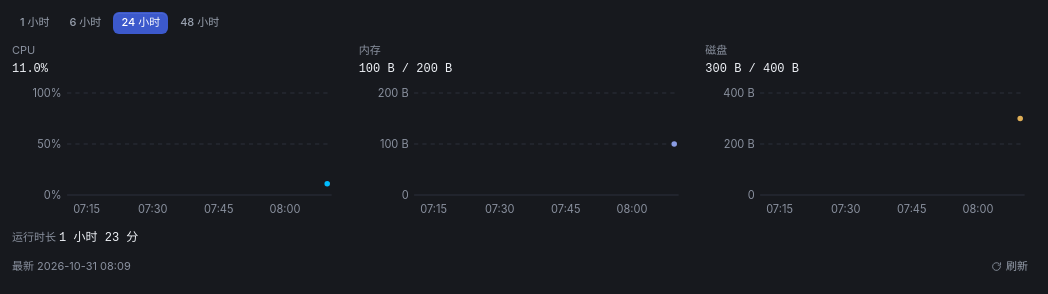
Test case: Device management view - device list and metrics › does not show a previous device sample while switching or resolving out of order
Click the button with aria-label "刷新指标" at (1010, 266), box [983, 256, 1036, 278]
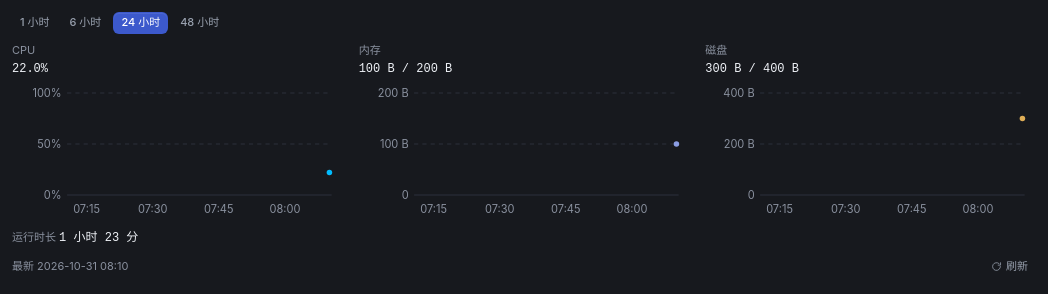
expect the text "11.0%" is gone: met
expect the text "22.0%" is shown: met, box [12, 62, 48, 76]
